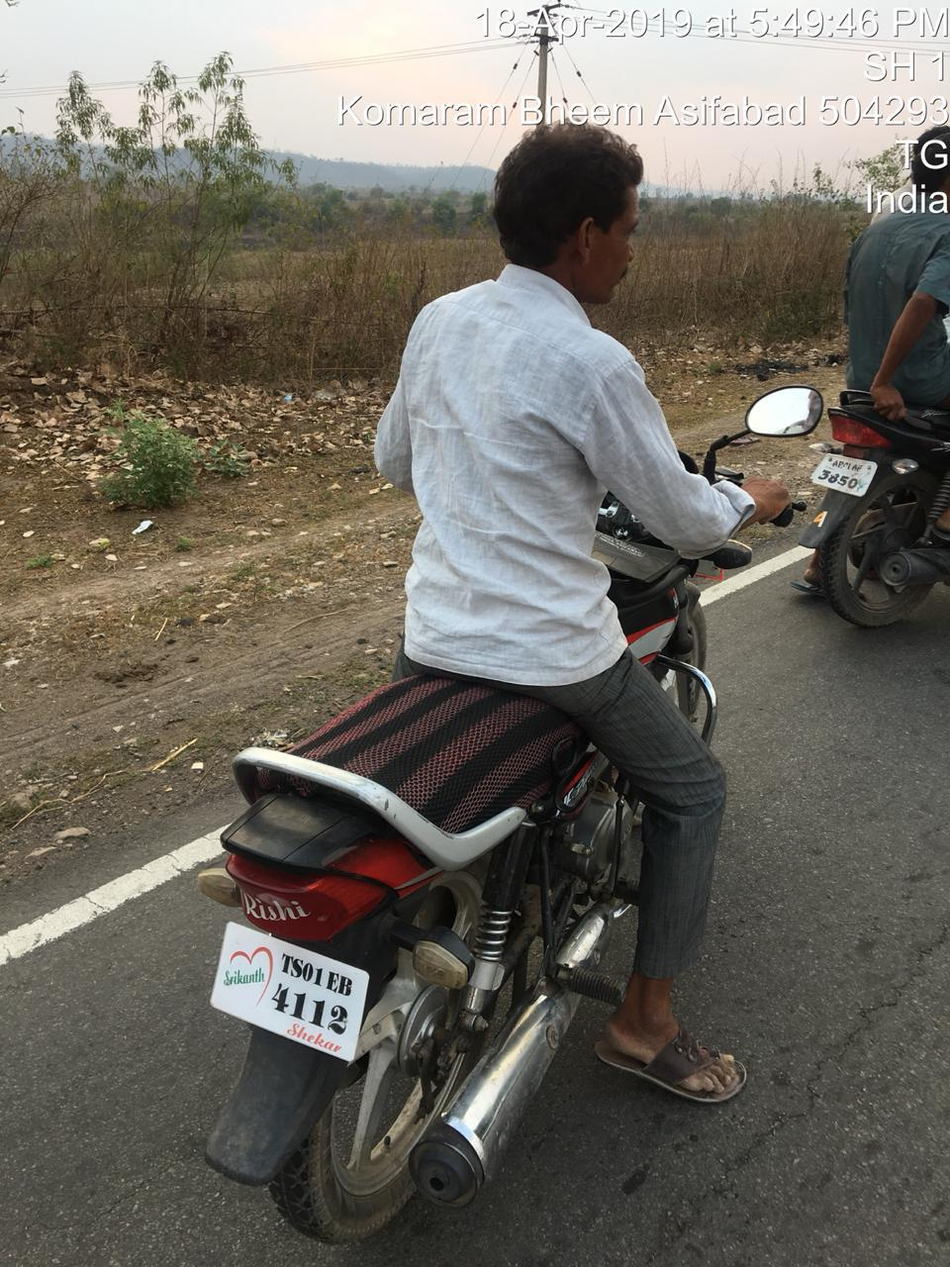plate: (190, 904, 394, 1089), (798, 434, 889, 509)
